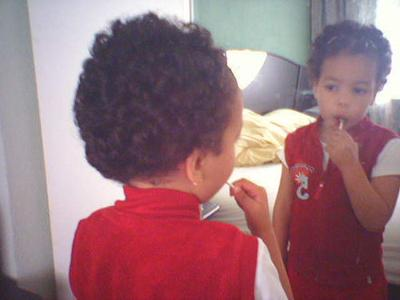person: (65, 11, 298, 300)
